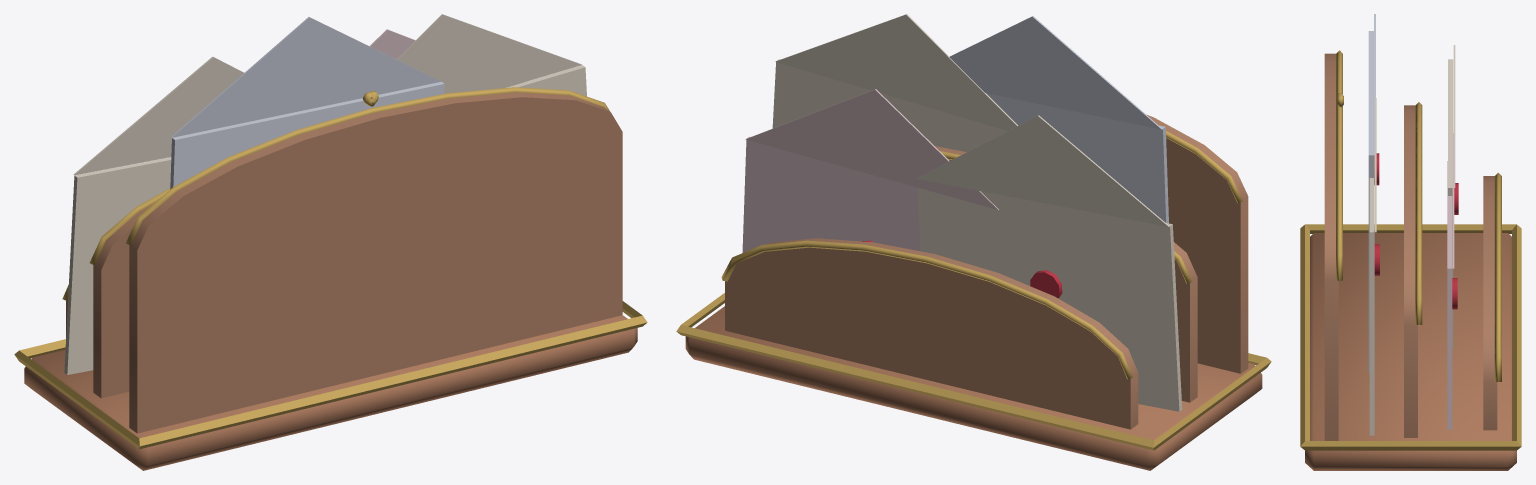
The model's file is letter_rack.glb.
3 views of the same model, side by side, from view 1: azimuth 30°, elevation 25°; view 2: azimuth 150°, elevation 25°; view 3: azimuth 270°, elevation 25° (orthographic). The views are drawn at different scales.
Visible parts, largest first — view 1: letter_rack; view 2: letter_rack; view 3: letter_rack.
Part boxes in pixels (x1=…): letter_rack: x1=14, y1=14, x2=647, y2=470; letter_rack: x1=676, y1=14, x2=1271, y2=470; letter_rack: x1=1300, y1=14, x2=1521, y2=470.
Size of what is drawn, in the model's own units: 0.28 by 0.2 by 0.12.
